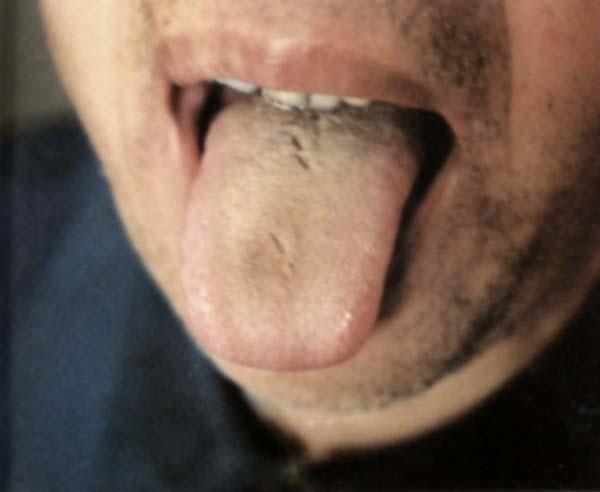huangtaishe: (179, 95, 417, 372)
liewenshe: (287, 136, 311, 173)
